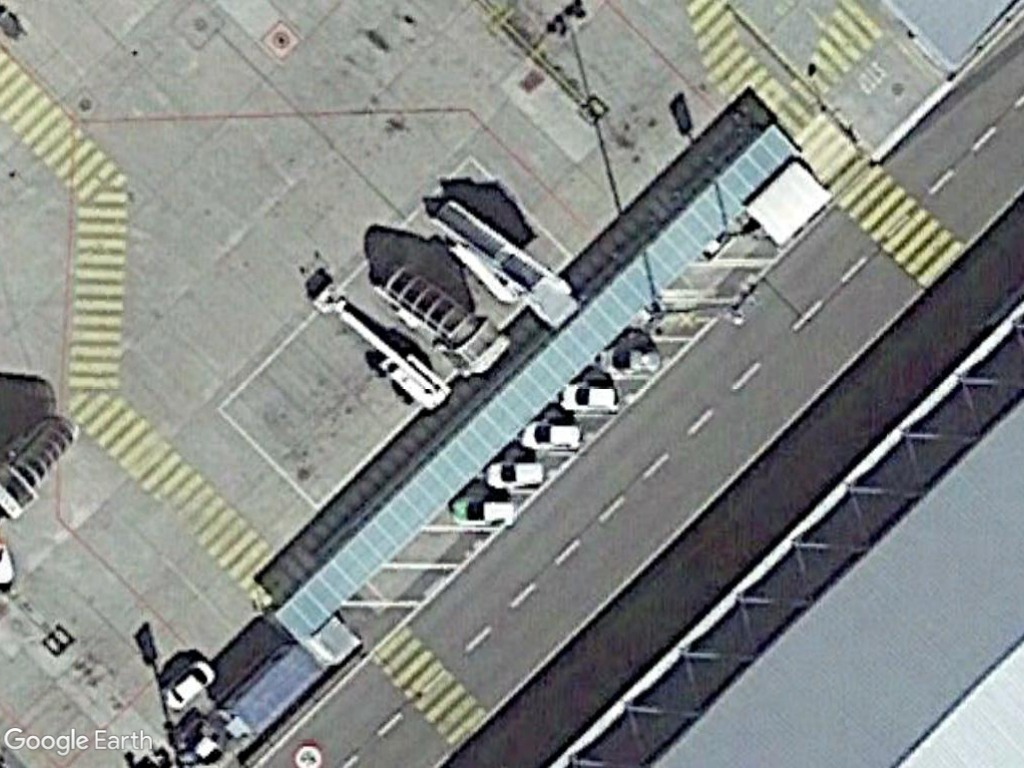car: (160, 656, 220, 713), (481, 454, 551, 493), (517, 417, 589, 452), (557, 379, 626, 415)
stairtruck: (428, 198, 577, 326)
